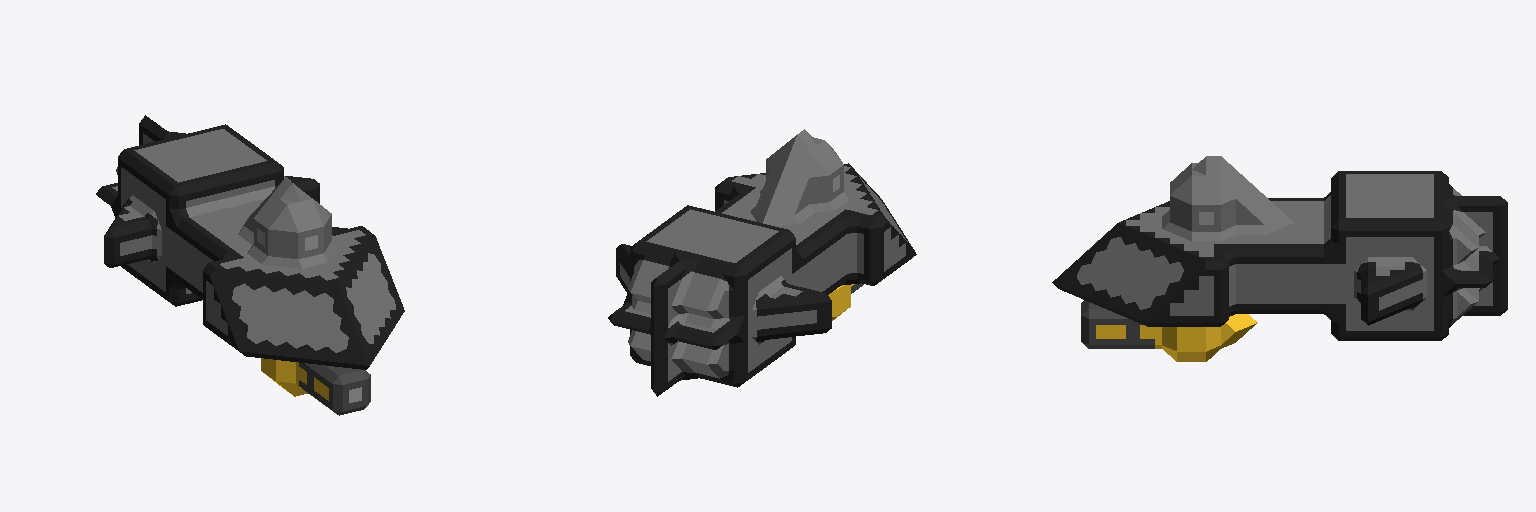
The picture shows the model from 3 angles: view 1: azimuth 30°, elevation 25°; view 2: azimuth 150°, elevation 25°; view 3: azimuth 270°, elevation 25°; orthographic projection.
Bounding box in the file's own units: 17 × 15 × 31.
Materials: 1 (1 with a texture image).